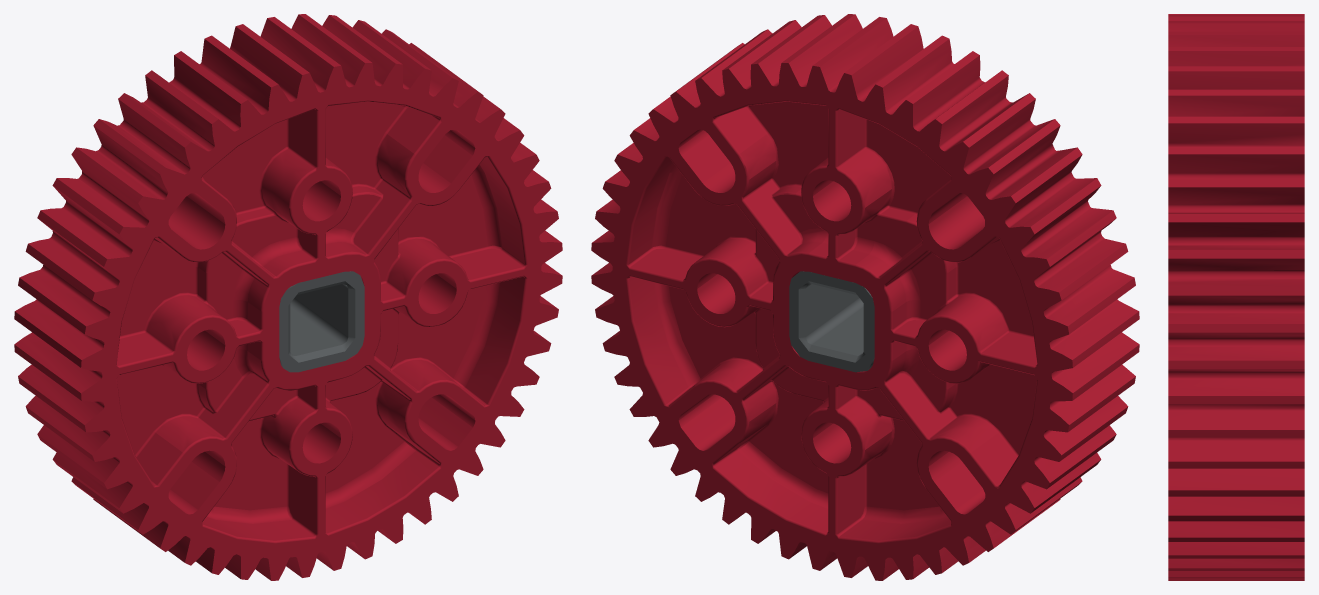
3 renders of one model, left to right at view 1: azimuth 30°, elevation 25°; view 2: azimuth 150°, elevation 25°; view 3: azimuth 270°, elevation 25°, orthographic.
Parts seen in each view (by area): view 1: 276-7573-001_OVERMOLD Rev7_48T 24DP Gear, 276-7573-002 Rev7; view 2: 276-7573-001_OVERMOLD Rev7_48T 24DP Gear, 276-7573-002 Rev7; view 3: 276-7573-001_OVERMOLD Rev7_48T 24DP Gear.
Part boxes in pixels (x1,y1,x2,y2): 276-7573-001_OVERMOLD Rev7_48T 24DP Gear: (14,14,562,580); 276-7573-002 Rev7: (279,271,364,372); 276-7573-001_OVERMOLD Rev7_48T 24DP Gear: (591,14,1139,580); 276-7573-002 Rev7: (789,271,874,372); 276-7573-001_OVERMOLD Rev7_48T 24DP Gear: (1168,14,1304,580).
Bounding box in the file's own units: 52.85 × 52.85 × 12.7.
